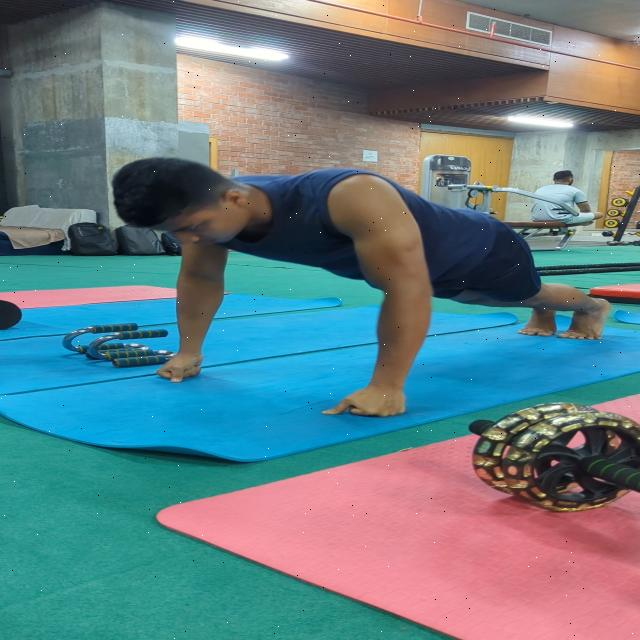Normal_PushUps: (101, 153, 613, 420)
